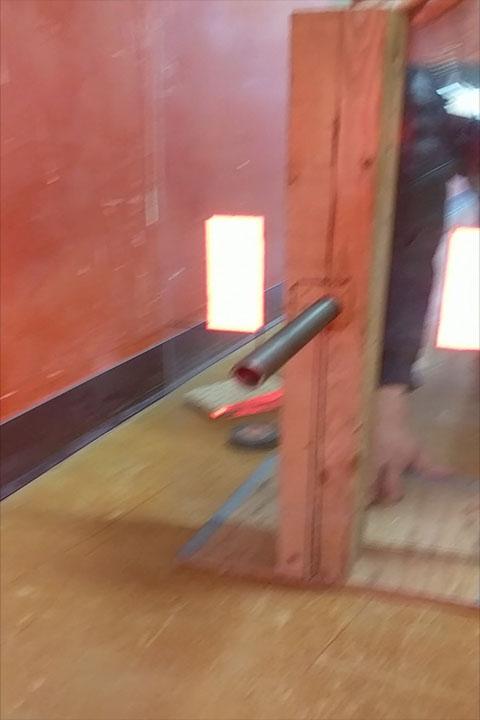gear: (204, 214, 264, 333), (436, 225, 480, 350)
